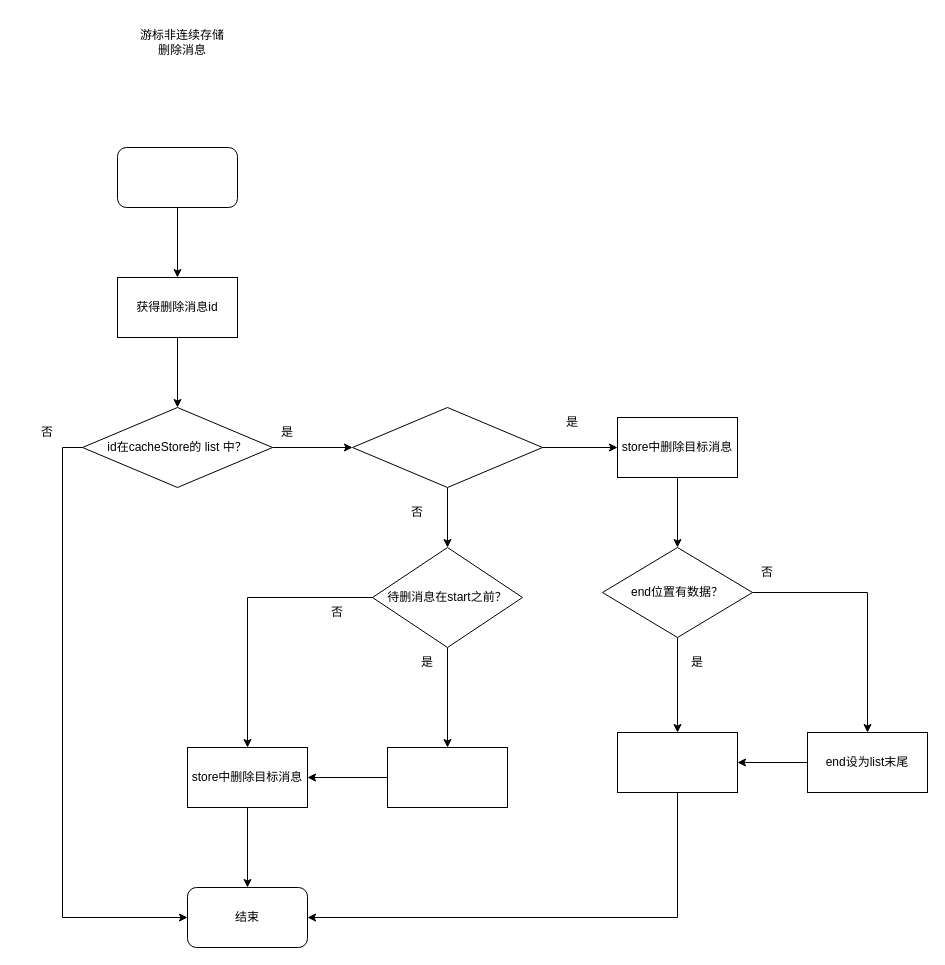
The diagram is 945 pixels wide and 965 high, and some of its shapes have lost their labels. Here are the shapes that lost their labels. From the top down, the centre of each, then its label:
At (177,177): "开始".
At (447,447): "id在 start和end之间？ (包含start和end)".
At (447,777): "start=start-1 end=end-1".
At (677,762): "通知TextRoom组件更新".
